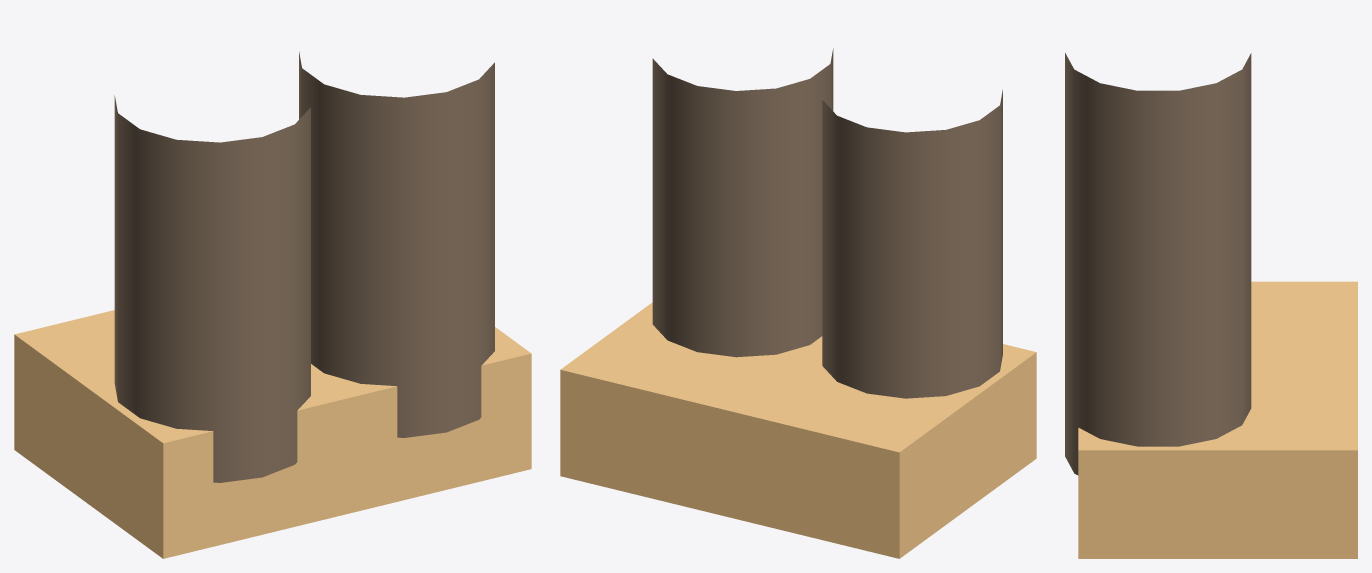
The model's file is amberwood_ranger_boots.glb.
The picture shows the model from 3 angles, left to right: view 1: azimuth 30°, elevation 25°; view 2: azimuth 150°, elevation 25°; view 3: azimuth 270°, elevation 25°; orthographic projection. The views are drawn at different scales.
Visible parts, largest first — view 1: Amberwood Ranger Boots; view 2: Amberwood Ranger Boots; view 3: Amberwood Ranger Boots.
Part boxes in pixels (x1,y1,x2,y2): Amberwood Ranger Boots: [14, 51, 531, 558]; Amberwood Ranger Boots: [560, 48, 1036, 558]; Amberwood Ranger Boots: [1065, 53, 1357, 558].
Size of the model in its own units: 0.6 by 0.63 by 0.44.
